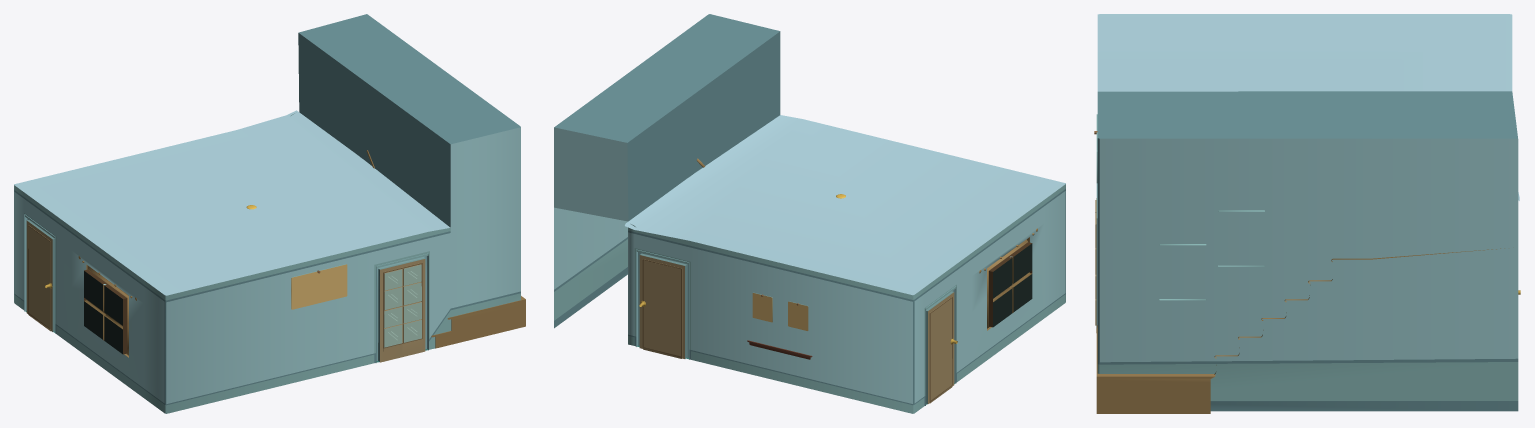
File: livingroom.glb
3 views of the same model, side by side, from view 1: azimuth 30°, elevation 25°; view 2: azimuth 150°, elevation 25°; view 3: azimuth 270°, elevation 25° (orthographic). The views are drawn at different scales.
Parts seen in each view (by area): view 1: House_11, Ceiling_17, Doors_12, Paintings_9; view 2: House_11, Ceiling_17, Doors_12, Paintings_9; view 3: House_11, Ceiling_17, Paintings_9, Doors_12.
Part boxes in pixels (x1,y1,x2,y2): House_11: [14, 14, 525, 413]; Ceiling_17: [14, 110, 450, 295]; Doors_12: [24, 214, 428, 362]; Paintings_9: [291, 264, 347, 309]; House_11: [554, 14, 1065, 413]; Ceiling_17: [625, 115, 1065, 295]; Doors_12: [636, 249, 956, 405]; Paintings_9: [752, 292, 808, 330]; House_11: [1096, 91, 1518, 413]; Ceiling_17: [1097, 14, 1519, 200]; Paintings_9: [1094, 114, 1264, 300]; Doors_12: [1095, 183, 1097, 332].
Bounding box in the file's own units: 56.16 × 31.21 × 41.73.
43 materials, 10 textured.
